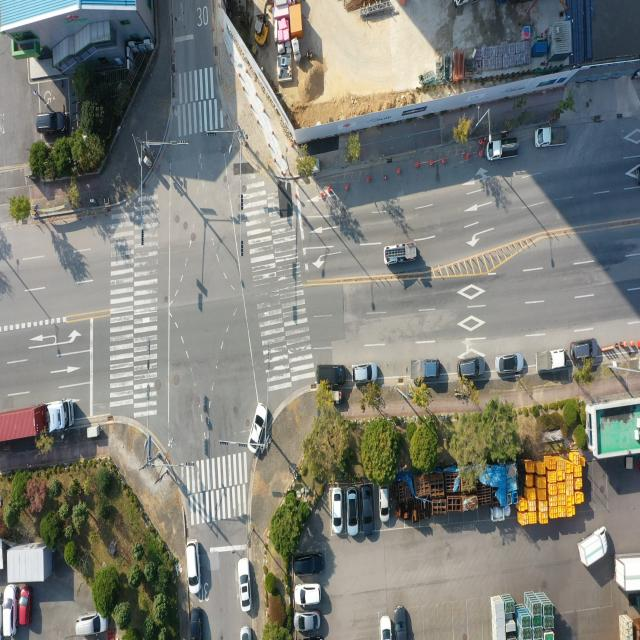car: (248, 402, 268, 452), (75, 616, 107, 640), (316, 364, 347, 388), (2, 585, 16, 637), (38, 112, 68, 136), (239, 560, 252, 612), (186, 542, 198, 596), (458, 355, 486, 378), (295, 555, 323, 578), (496, 353, 524, 376), (571, 340, 598, 362), (362, 488, 374, 536), (352, 361, 378, 383), (347, 490, 359, 536), (296, 585, 321, 607), (20, 586, 32, 626), (394, 607, 408, 640), (297, 615, 321, 634), (334, 489, 344, 534), (192, 606, 204, 640), (380, 488, 390, 522), (381, 616, 393, 640), (241, 627, 252, 640)
large_truck: (0, 401, 73, 445)
medium_truck: (614, 554, 640, 598)
small_truck: (579, 527, 610, 568), (384, 242, 420, 266), (536, 348, 570, 373), (534, 126, 568, 150), (408, 356, 441, 380), (486, 138, 518, 161)
